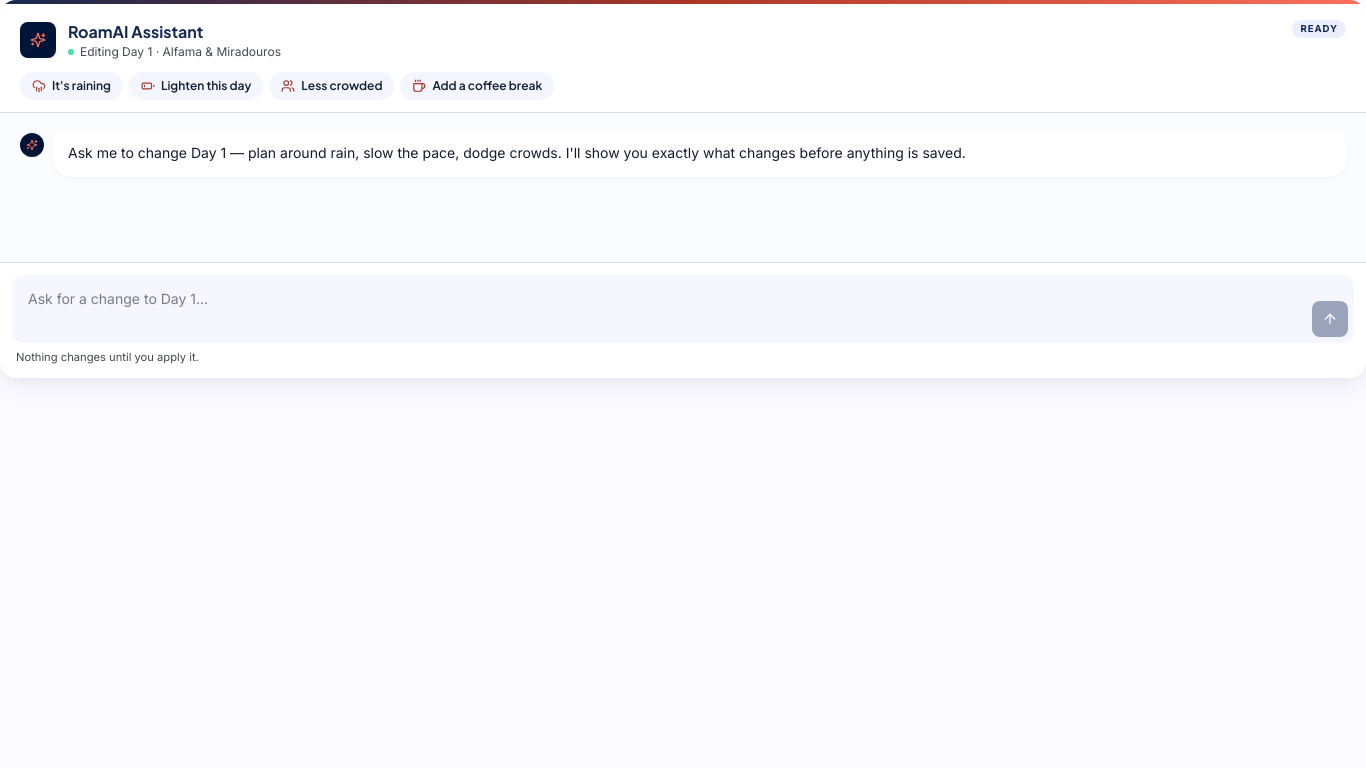
Test case: TripAssistant › asks for another option with the same request
This screenshot has width=1366, height=768.
Type "It's raining" into the text box named "Ask RoamAI to change Day 1".
click(661, 309); type("It's raining")  # box [18,281,1304,337]
Then press Enter
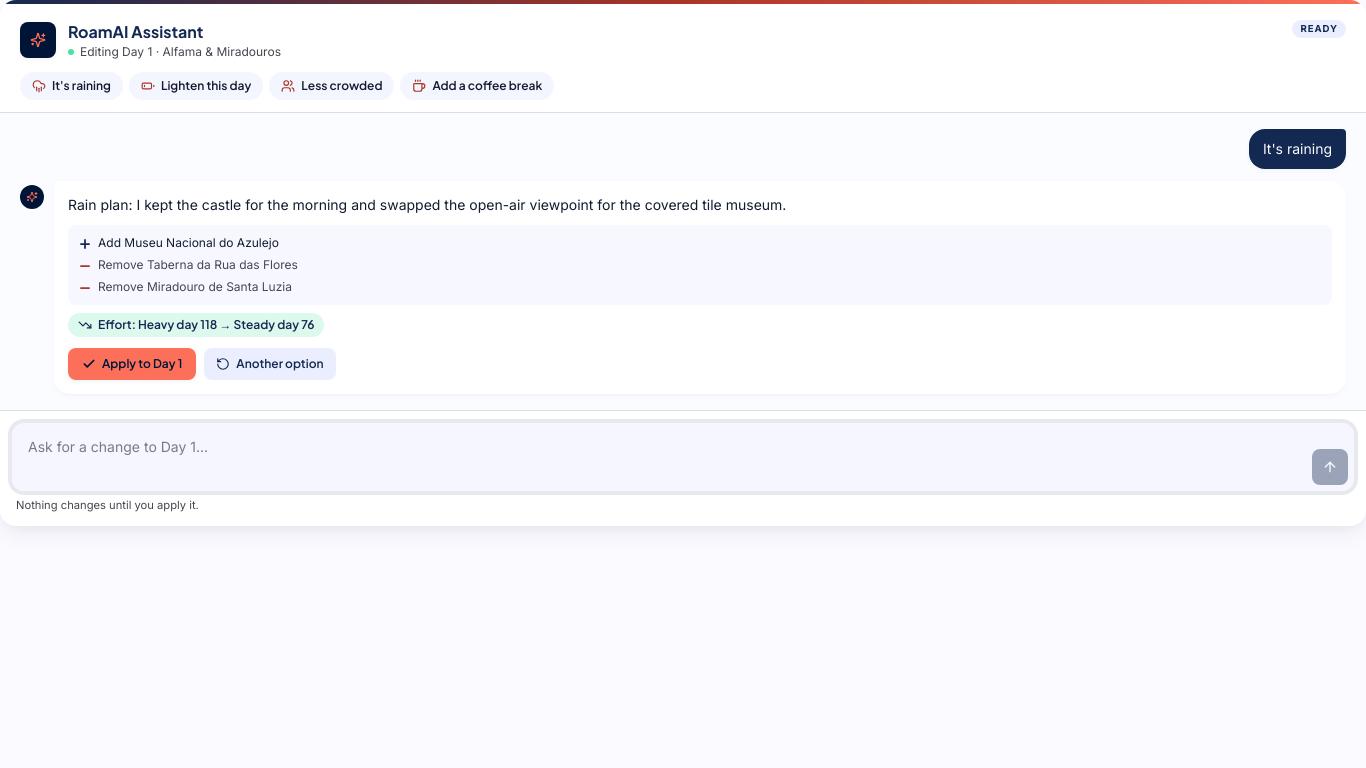
Check: the text "Rain plan: I kept the castle for the morning and swapped the open-air viewpoint for the covered tile museum." is shown, box [68,196,786,213]
Click the button "Another option".
click(270, 364)  # box [204,348,336,380]
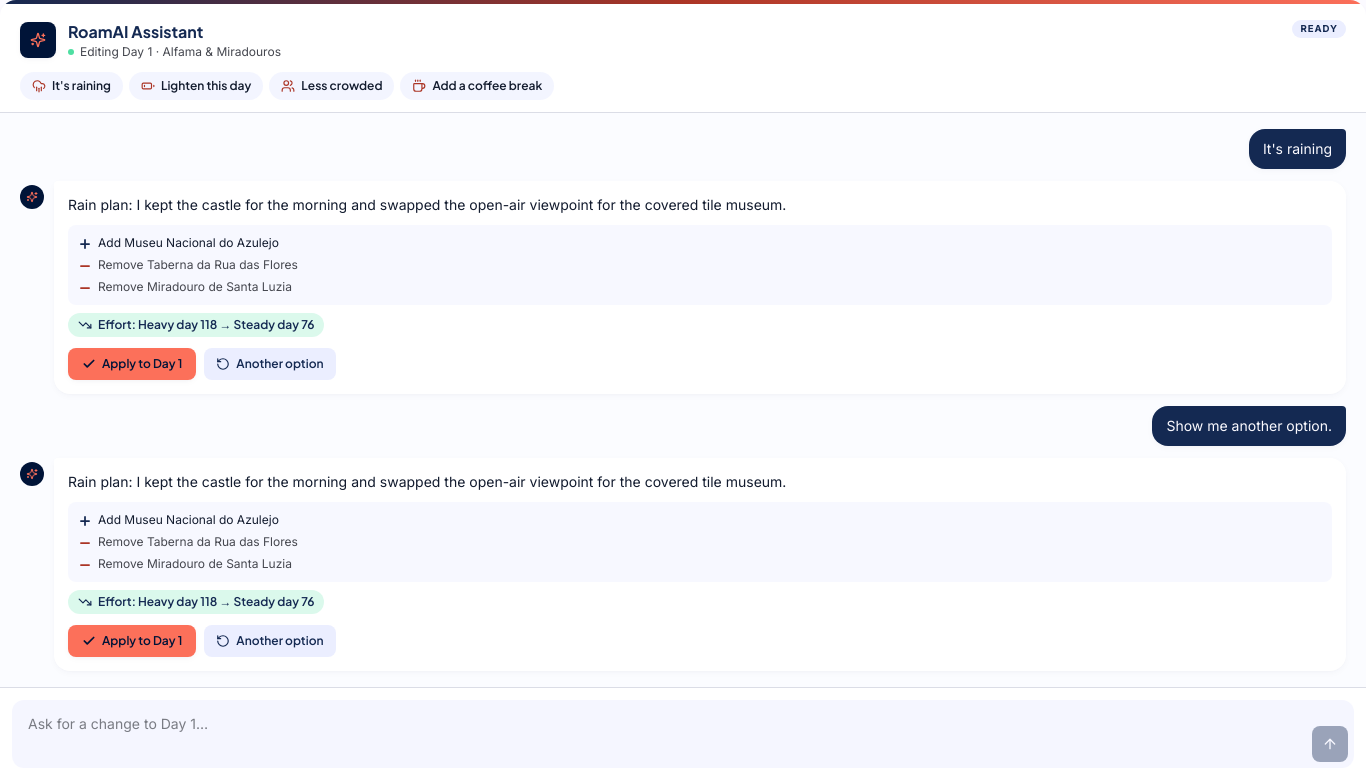
Check: the text "Show me another option." is shown, box [1152,406,1346,446]
